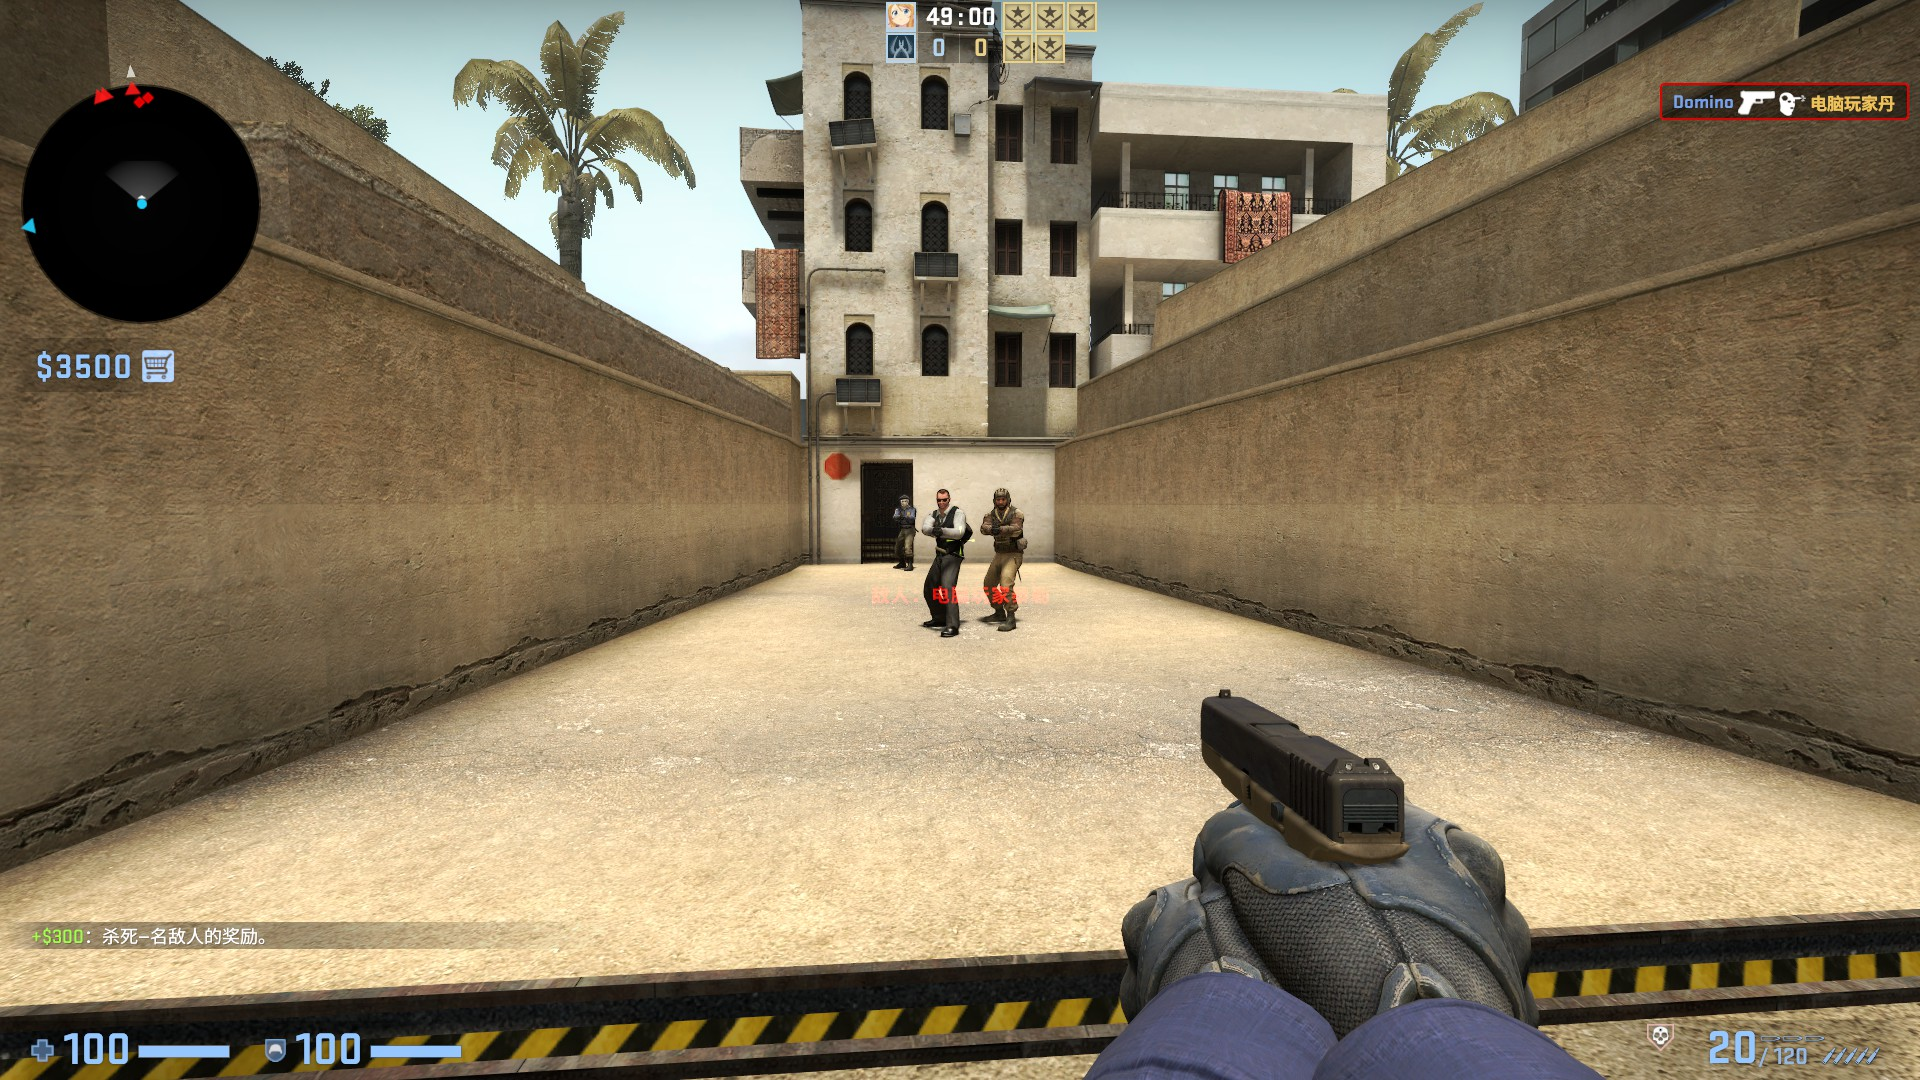head: (933, 486, 949, 512), (991, 487, 1009, 508), (898, 493, 910, 509)
